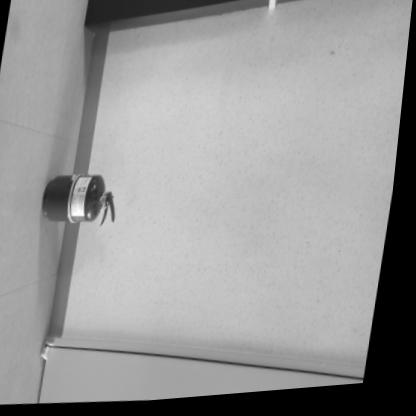FE: (43, 171, 127, 229)
